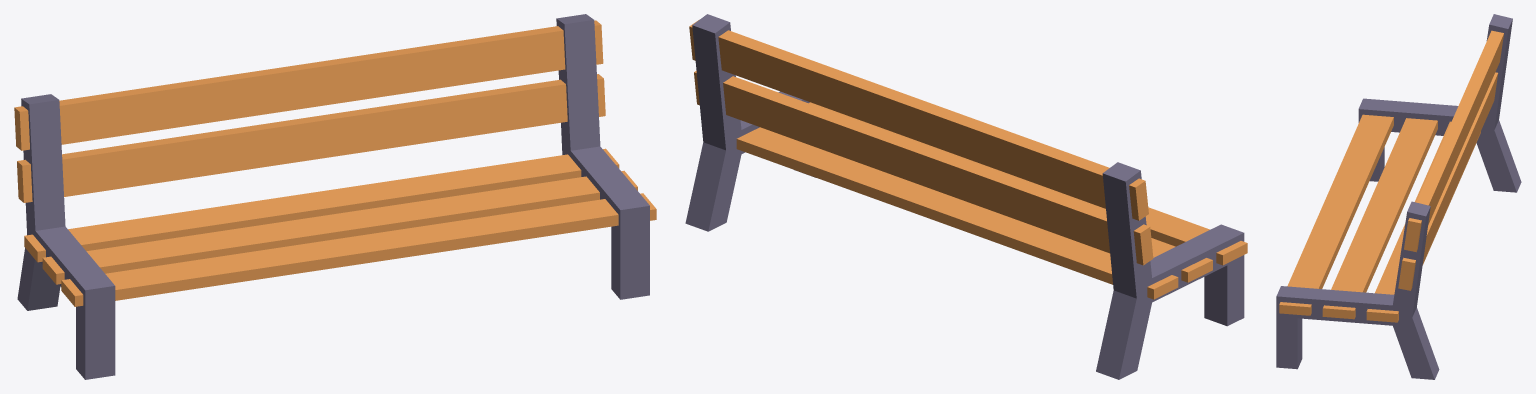
File: bench.glb
The picture shows the model from 3 angles, left to right: view 1: azimuth 30°, elevation 25°; view 2: azimuth 150°, elevation 25°; view 3: azimuth 270°, elevation 25°; orthographic projection. The views are drawn at different scales.
Parts seen in each view (by area): view 1: benchPhysicalDynamic; view 2: benchPhysicalDynamic; view 3: benchPhysicalDynamic.
Boxes of the visible parts, x1,y1,x2,y2 form: benchPhysicalDynamic: (14,14,656,379); benchPhysicalDynamic: (685,14,1247,379); benchPhysicalDynamic: (1276,14,1521,379).
Size of the model in its own units: 4.33 by 1.56 by 2.09.
Materials: 1 (1 with a texture image).
